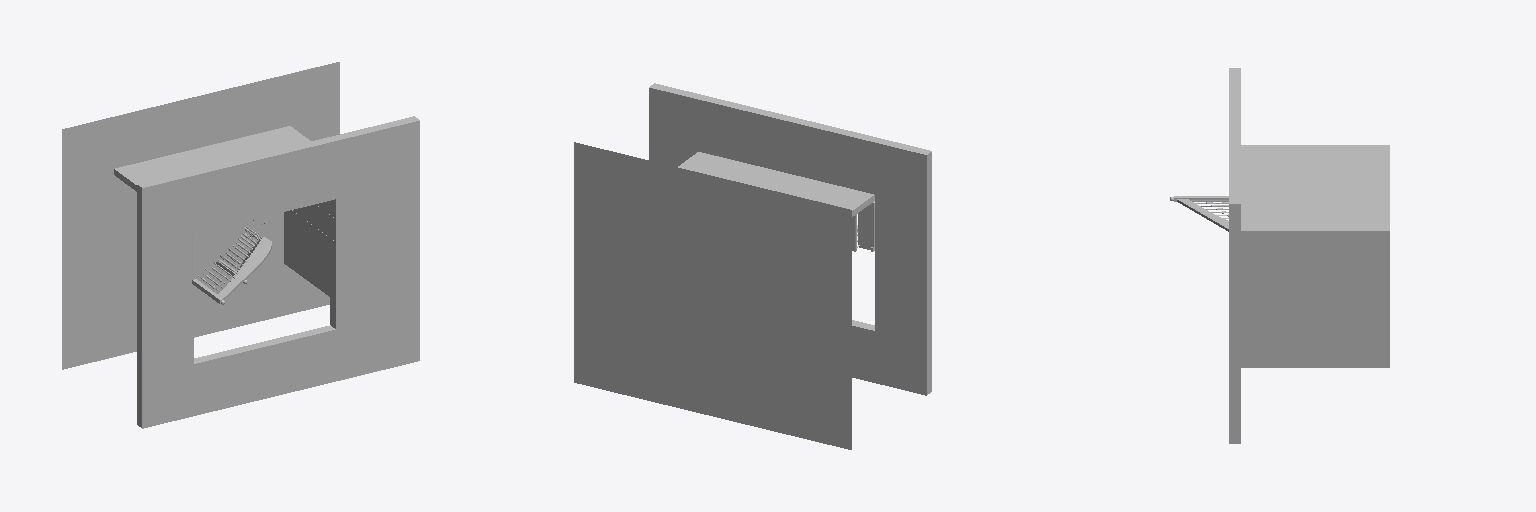
File: hologramg.obj
3 views of the same model, side by side, from view 1: azimuth 30°, elevation 25°; view 2: azimuth 150°, elevation 25°; view 3: azimuth 270°, elevation 25° (orthographic).
Visible parts, largest first — view 1: object_1; view 2: object_1; view 3: object_1.
Boxes of the visible parts, <box> form: object_1: <box>62,62,419,428</box>; object_1: <box>574,83,931,449</box>; object_1: <box>1170,68,1389,443</box>.
Bounding box in the file's own units: 558 × 462 × 383.